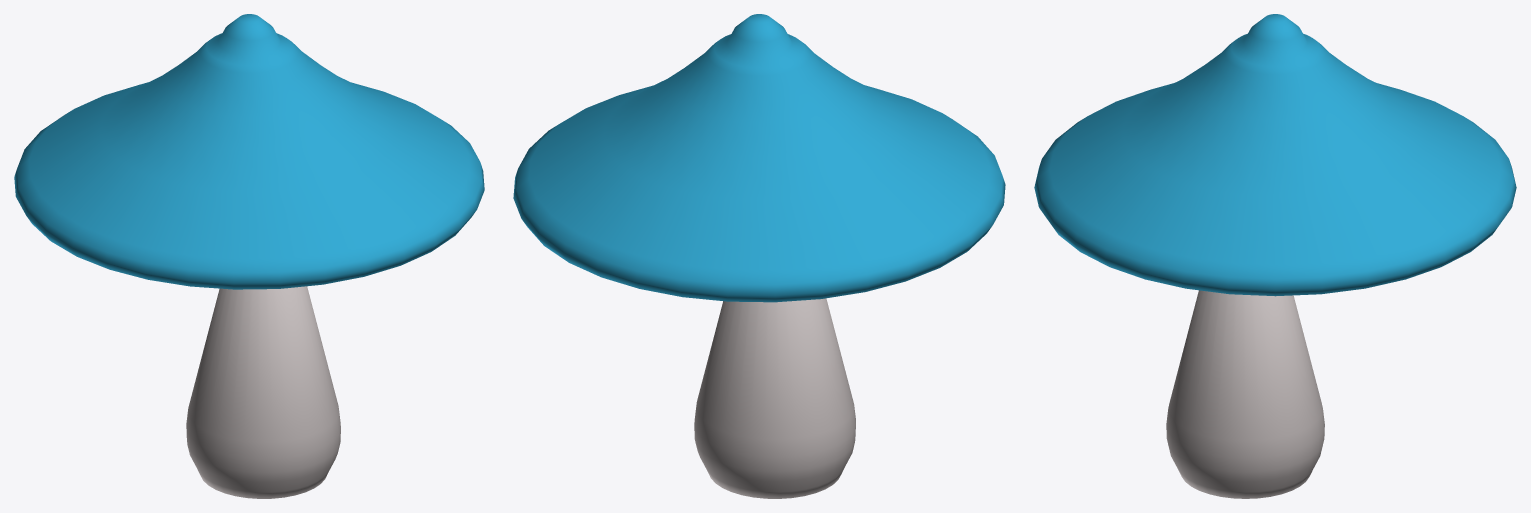
The model's file is mushrooms4.fbx.
3 views of the same model, side by side, from view 1: azimuth 30°, elevation 25°; view 2: azimuth 150°, elevation 25°; view 3: azimuth 270°, elevation 25° (orthographic). The views are drawn at different scales.
Visible parts, largest first — view 1: Cylinder.001; view 2: Cylinder.001; view 3: Cylinder.001.
Boxes of the visible parts, x1,y1,x2,y2 form: Cylinder.001: [14, 14, 484, 498]; Cylinder.001: [513, 14, 1005, 498]; Cylinder.001: [1034, 14, 1516, 498].
Bounding box in the file's own units: 466 × 483 × 466.
